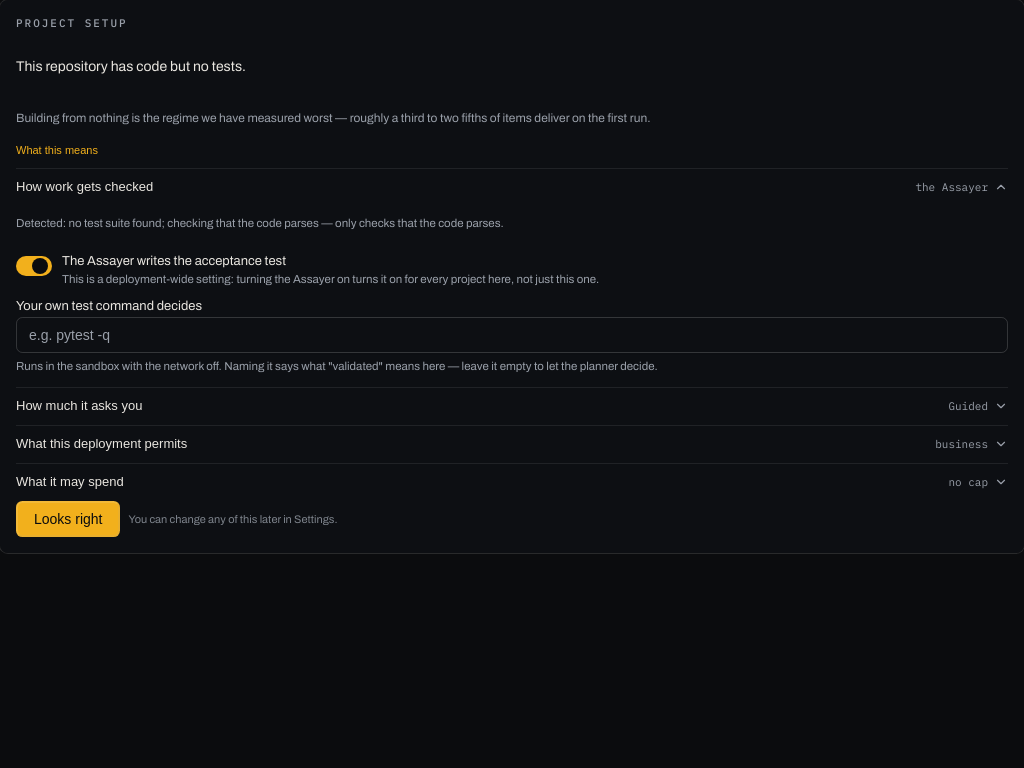
Scenario: enumerables are dropdowns rendered from the server's own sets › run mode and posture are selects over the served choices
The image size is (1024, 768).
Click the button "How much it asks you Guided" at (79, 406), box [16, 398, 1008, 413]
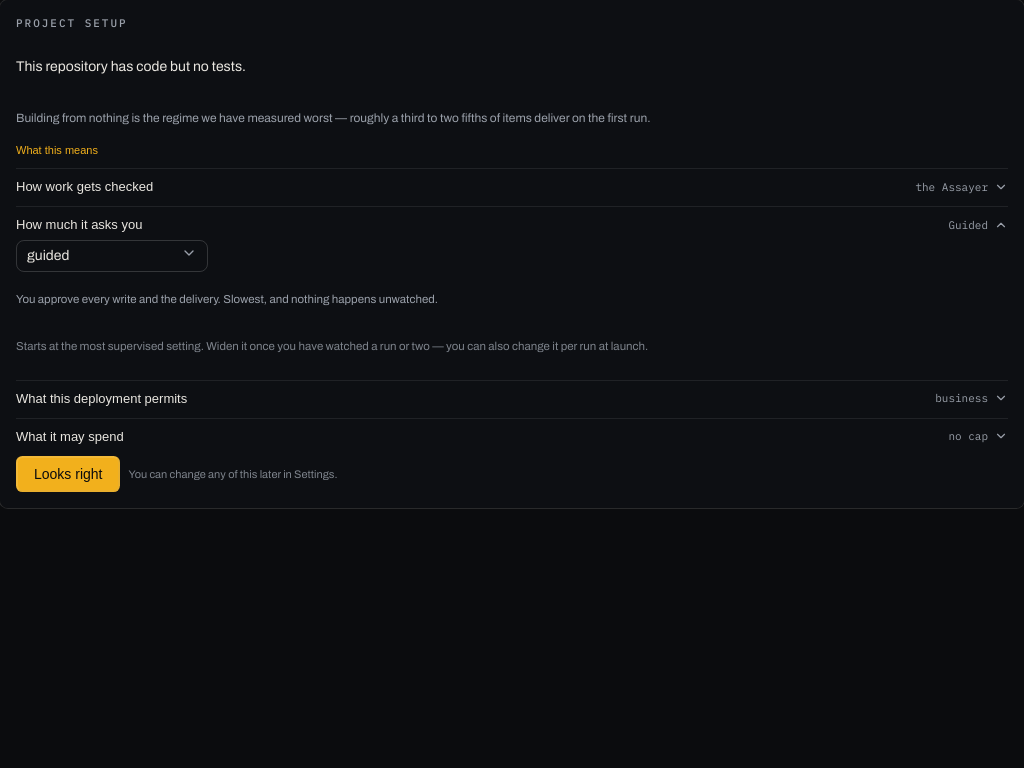
Click the button "What this deployment permits business" at (102, 398), box [16, 391, 1008, 406]
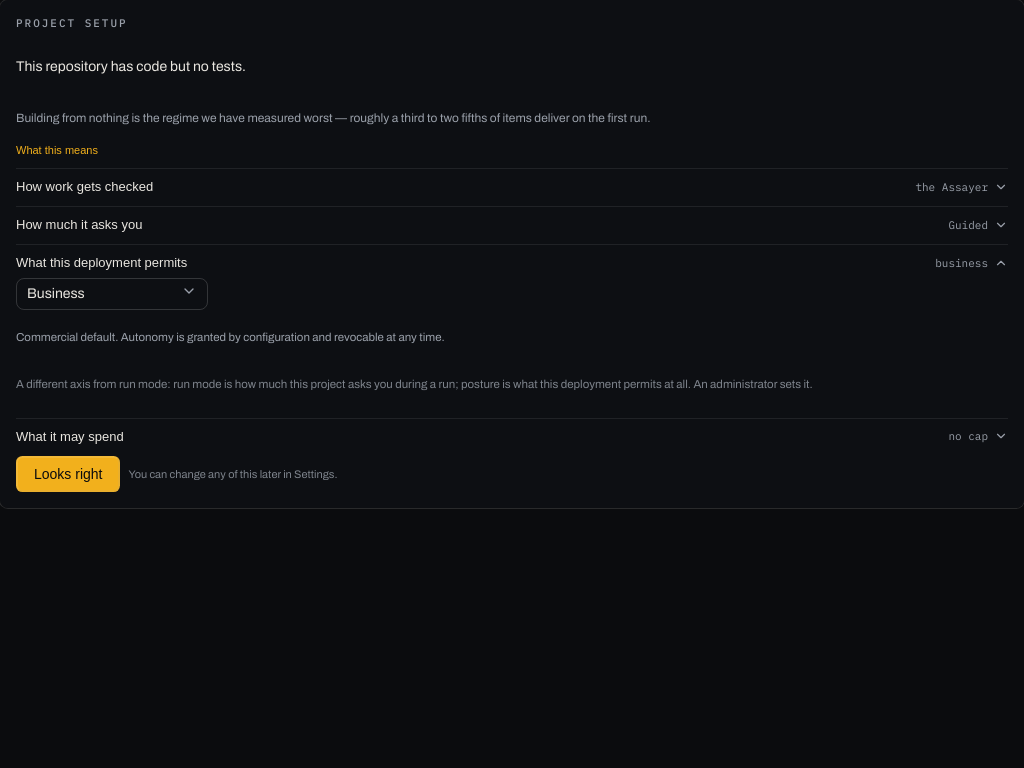
Expected: the dropdown named "Governance posture" is shown, [16, 278, 208, 310]
